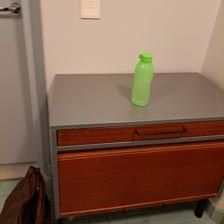bottle: (130, 51, 156, 109)
